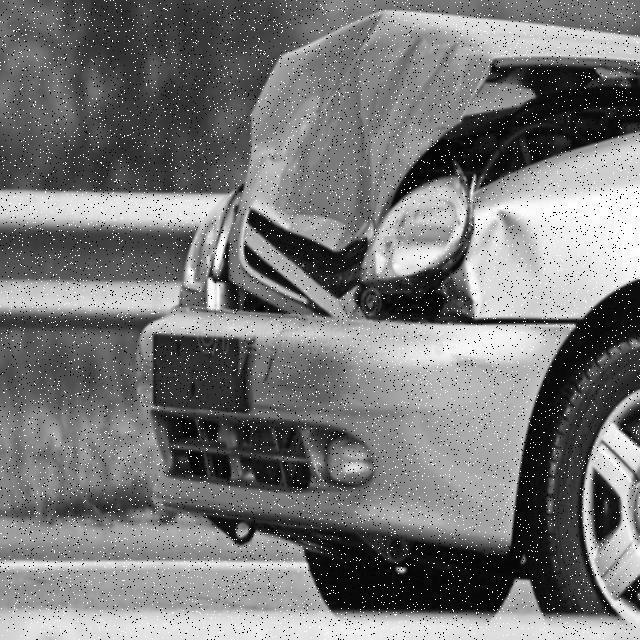bonnet-dent: (220, 9, 473, 308)
fender-dent: (453, 156, 640, 390)
